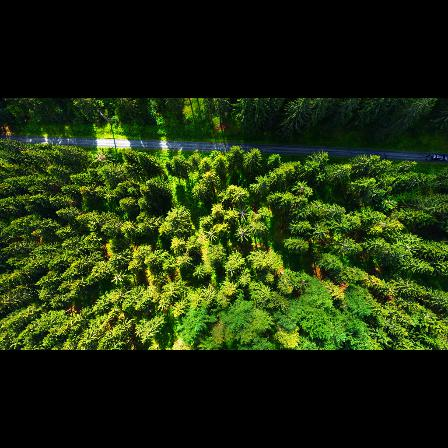Sick: (234, 226, 249, 242), (295, 181, 308, 196), (236, 206, 248, 222), (311, 200, 324, 213), (204, 229, 218, 241)
